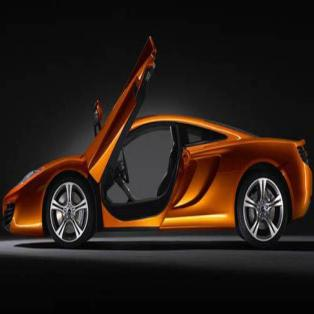Auto: (1, 31, 314, 251)
